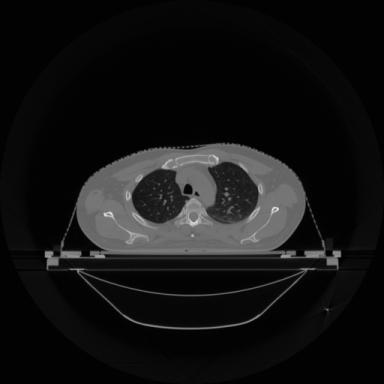body: (76, 144, 306, 252)
cord: (175, 198, 213, 227)
paru kanan: (132, 169, 188, 223)
paru kiri: (207, 162, 259, 223)
